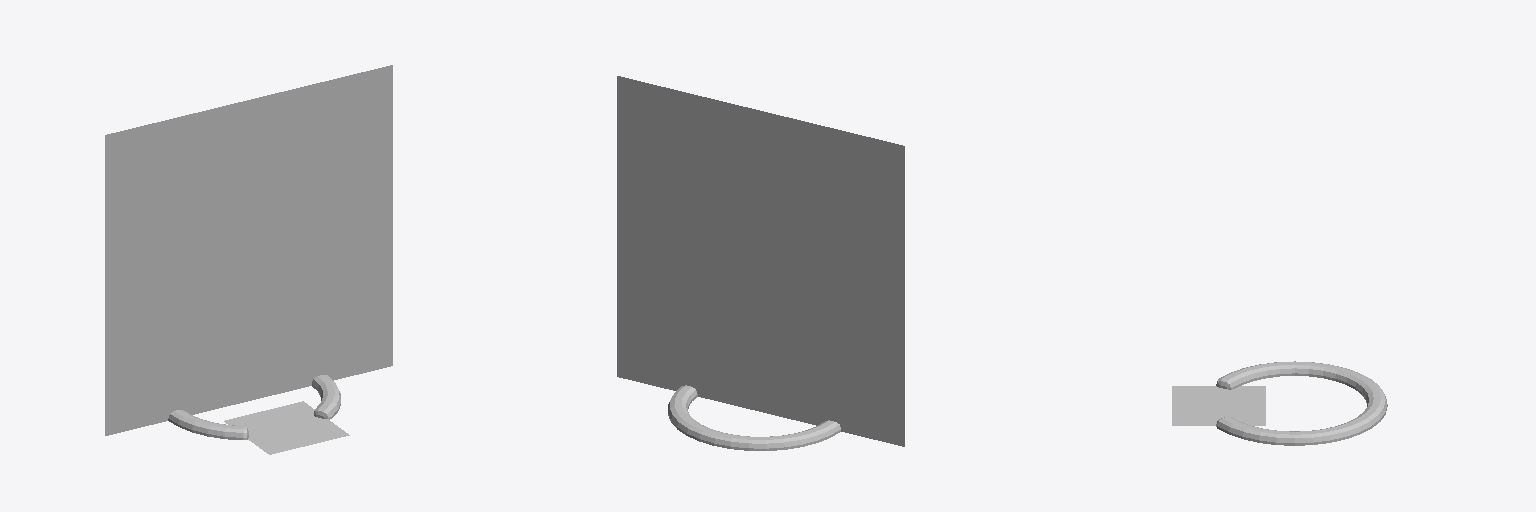
3 views of the same model, side by side, from view 1: azimuth 30°, elevation 25°; view 2: azimuth 150°, elevation 25°; view 3: azimuth 270°, elevation 25° (orthographic).
Visible parts, largest first — view 1: 0back_0FRONT_Plane.002, 0front_0FRONT_Plane.000, 0BASE_ICON_0BASE_ICON_Cylinder.005, 0BASE_color_0BASE_Cylinder.006; view 2: 0front_0FRONT_Plane.000, 0back_0FRONT_Plane.002, 0BASE_color_0BASE_Cylinder.006; view 3: 0BASE_color_0BASE_Cylinder.006, 0BASE_ICON_0BASE_ICON_Cylinder.005.
Part boxes in pixels (bbox=[...]): 0back_0FRONT_Plane.002: bbox=[105, 65, 392, 403]; 0front_0FRONT_Plane.000: bbox=[105, 353, 275, 435]; 0BASE_ICON_0BASE_ICON_Cylinder.005: bbox=[224, 401, 349, 454]; 0BASE_color_0BASE_Cylinder.006: bbox=[168, 375, 340, 438]; 0front_0FRONT_Plane.000: bbox=[617, 76, 904, 410]; 0back_0FRONT_Plane.002: bbox=[723, 359, 904, 446]; 0BASE_color_0BASE_Cylinder.006: bbox=[668, 385, 840, 450]; 0BASE_color_0BASE_Cylinder.006: bbox=[1229, 361, 1385, 445]; 0BASE_ICON_0BASE_ICON_Cylinder.005: bbox=[1172, 386, 1265, 425].
Size of the model in its own units: 3.58 by 3.58 by 2.31.